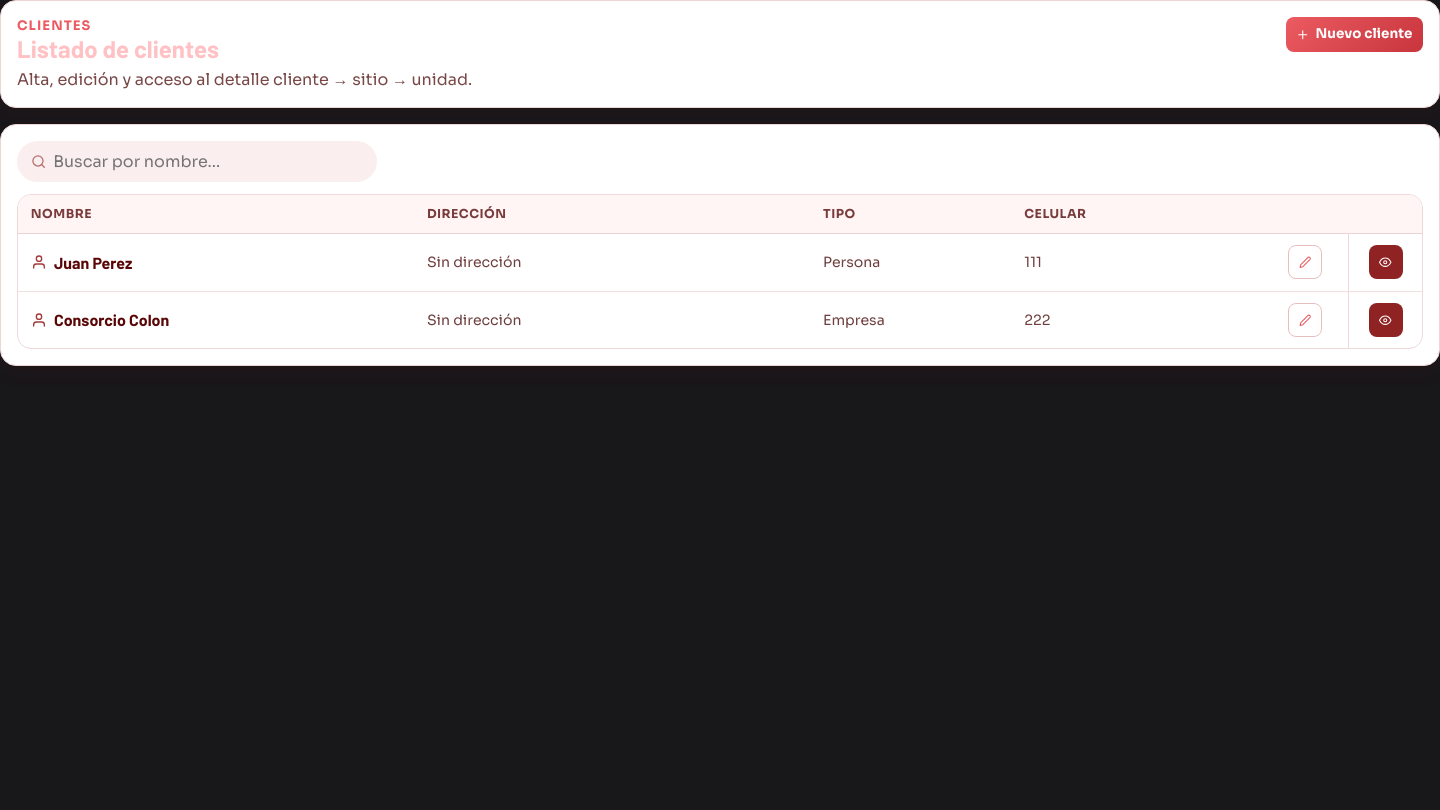
ClientesPage › muestra el mensaje de ApiError en el form sin cerrarlo si falla el guardado
Expected: the text "Juan Perez" is shown, top-left (31, 253), bottom-right (132, 272)
Click the button "Nuevo cliente" at (1354, 35), box top-left (1286, 17), bottom-right (1423, 52)
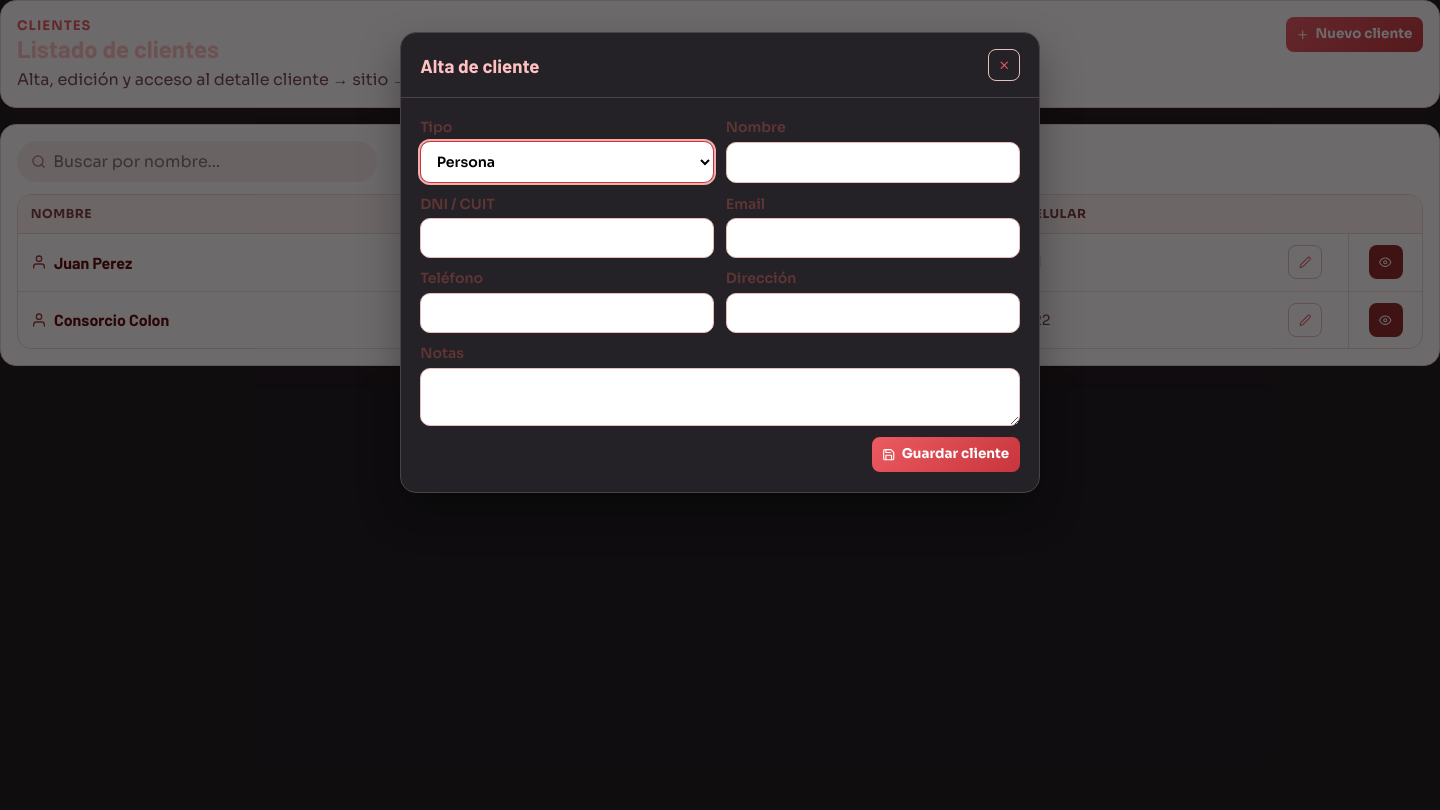
Type "Cliente Repetido" into the field labelled "Nombre" at (873, 163), box top-left (726, 142), bottom-right (1020, 183)
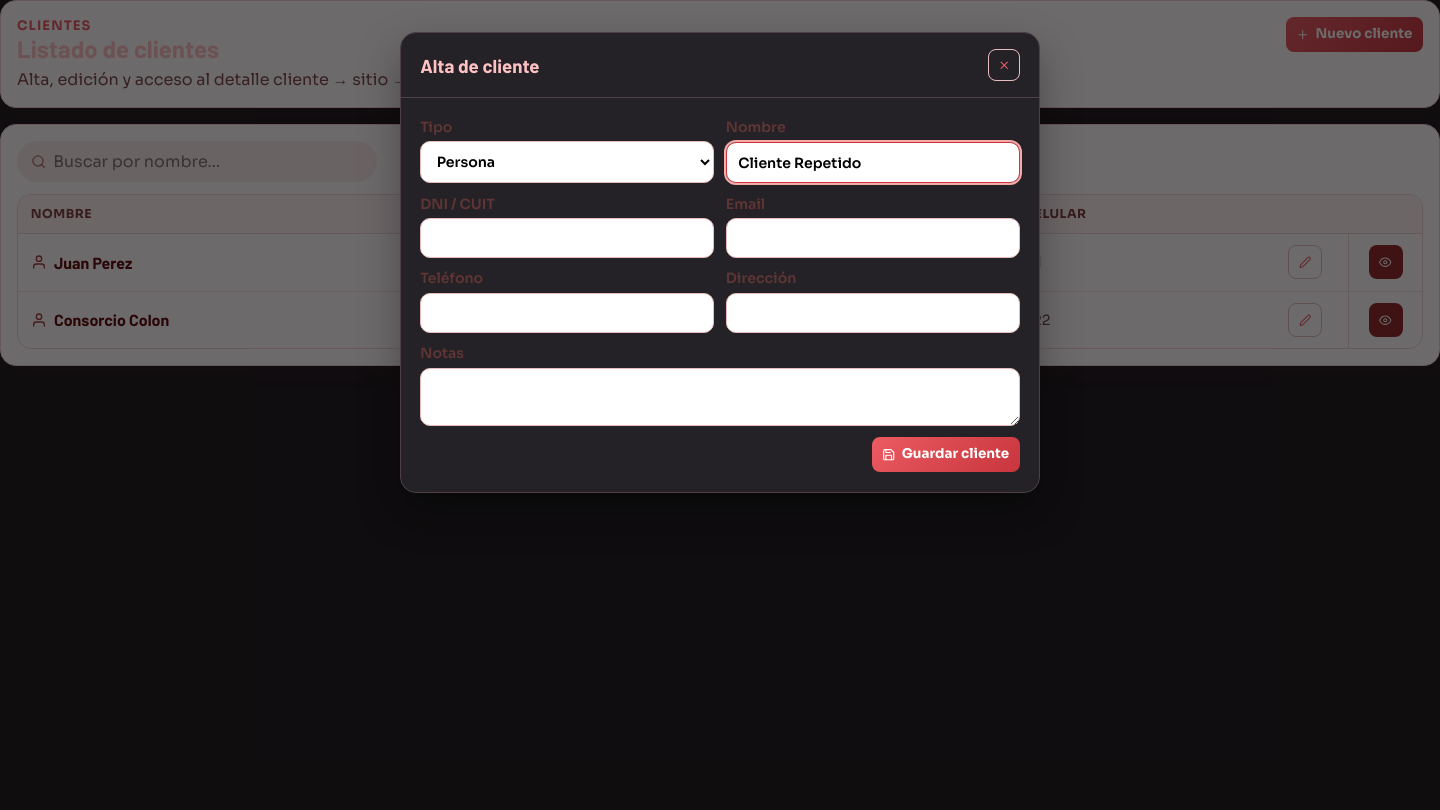
Click the button "Guardar cliente" at (946, 455), box top-left (872, 437), bottom-right (1020, 472)
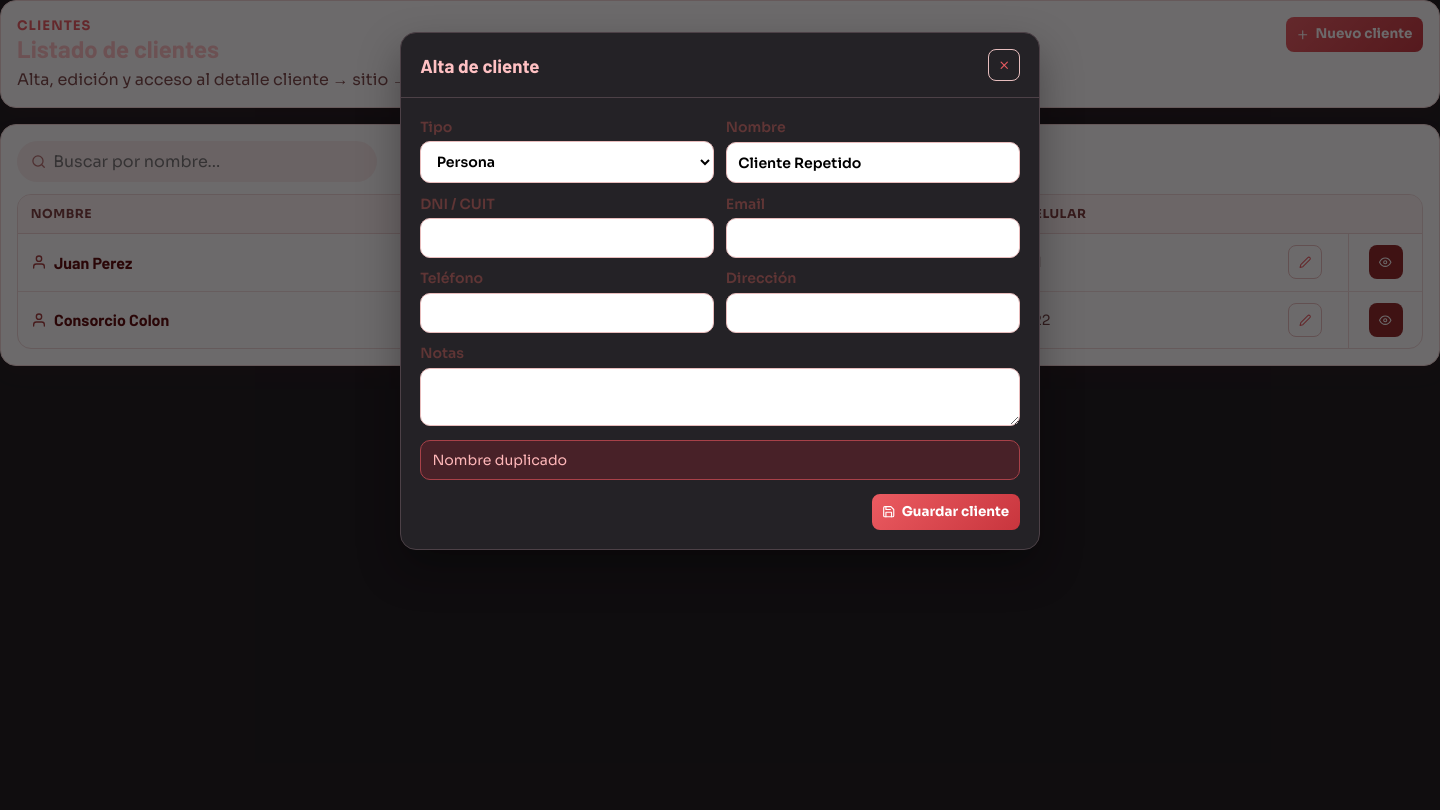
Expected: the text "Nombre duplicado" is shown, top-left (420, 440), bottom-right (1020, 480)
